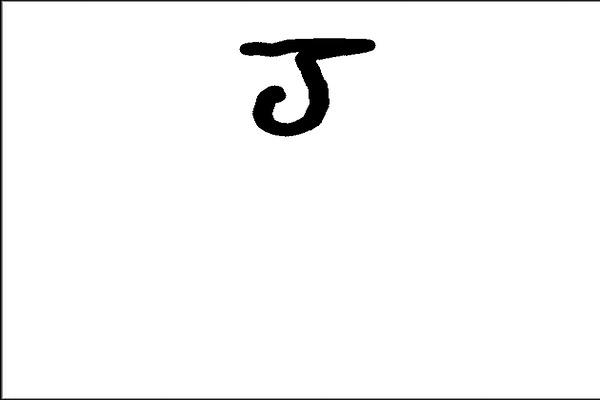J: (237, 34, 378, 138)
